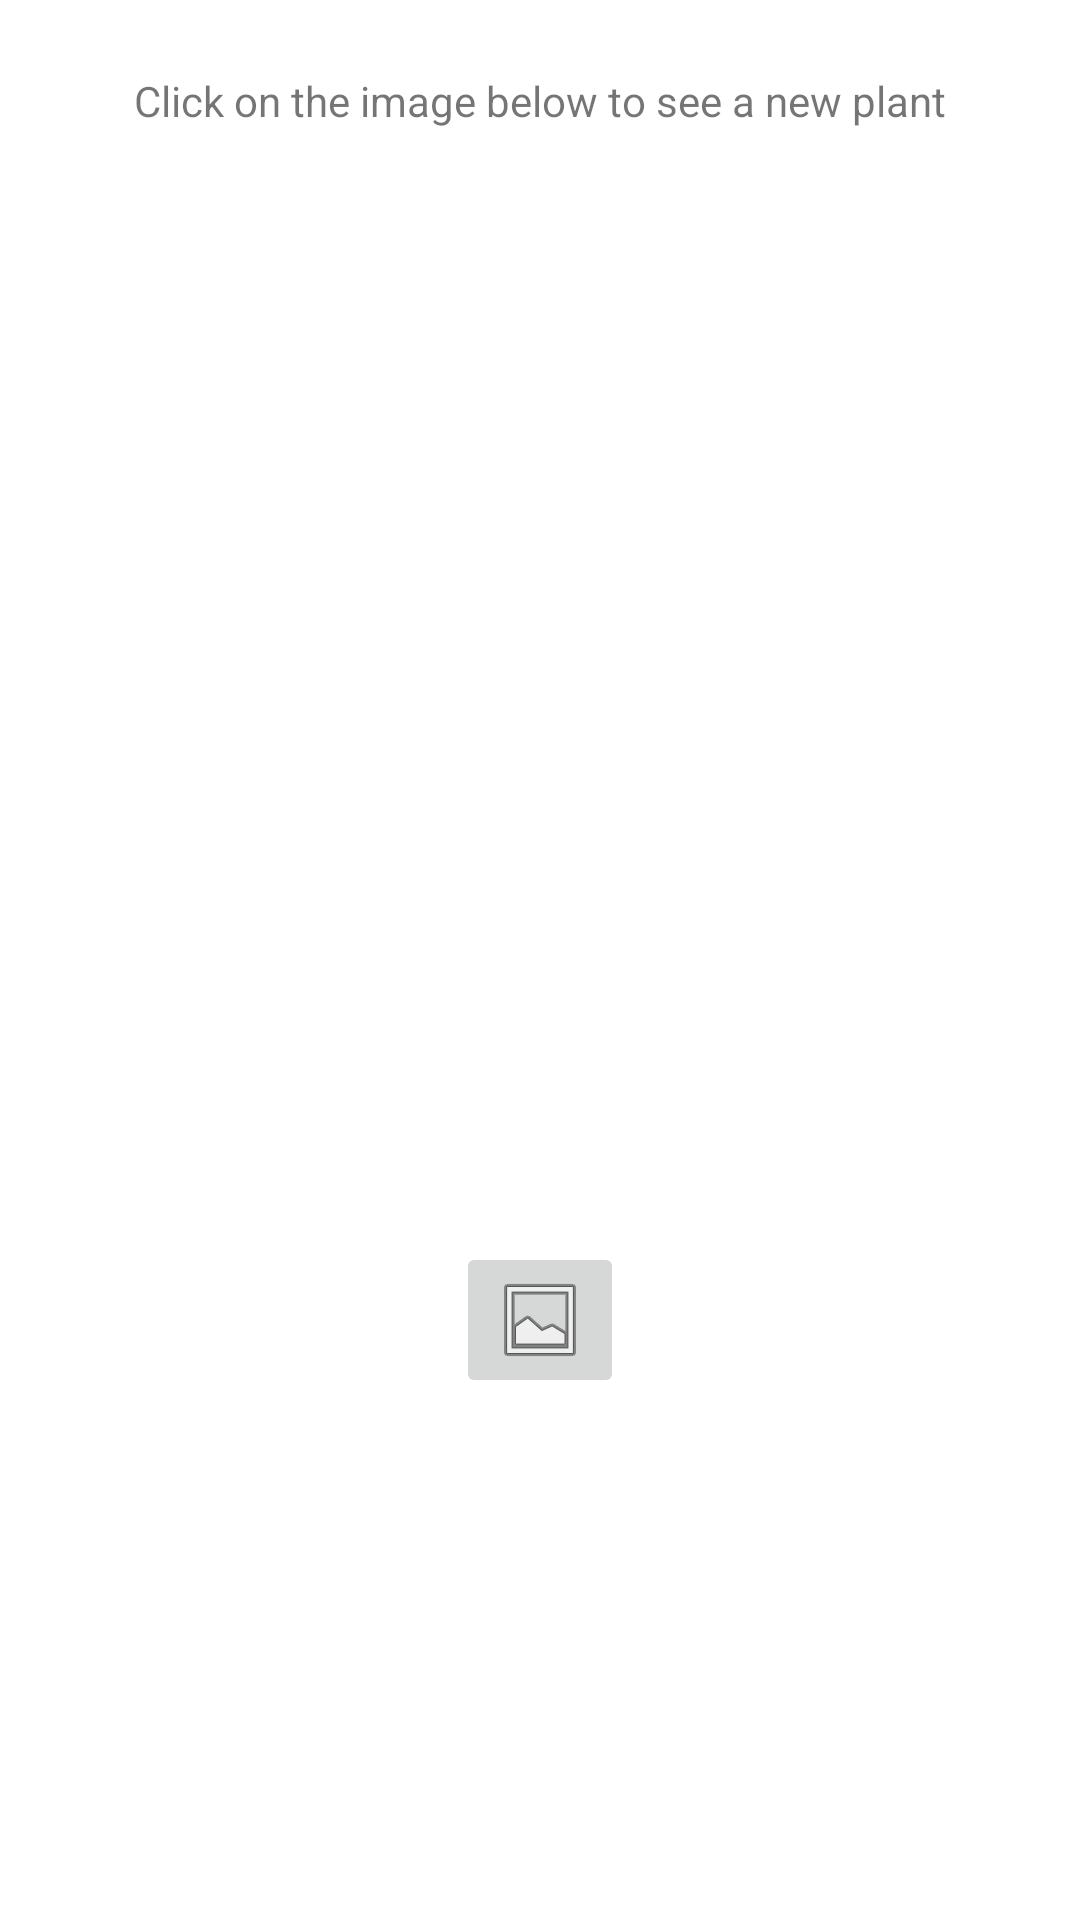

Screen size 1080px x 1920px. Icon name, then its center in pixels as (x=x, y=y):
gallery: (x=540, y=1320)
